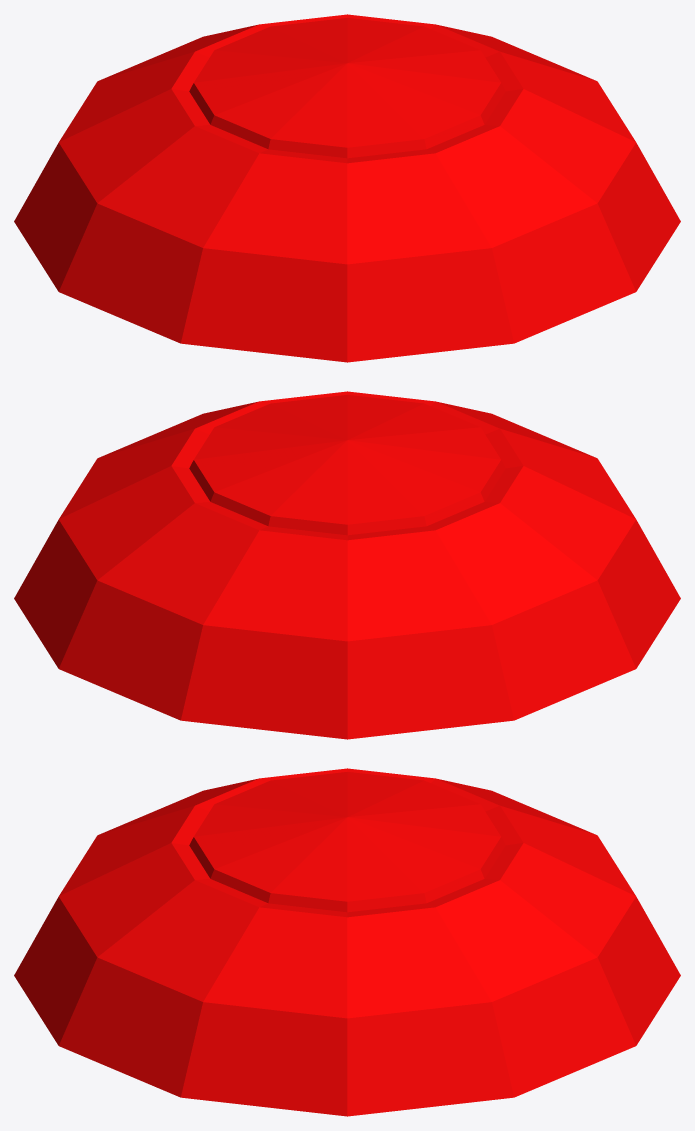
File: Holo_Boussole.fbx
The picture shows the model from 3 angles, top to bottom: view 1: azimuth 30°, elevation 25°; view 2: azimuth 150°, elevation 25°; view 3: azimuth 270°, elevation 25°; orthographic projection.
Parts seen in each view (by area): view 1: Sphere003; view 2: Sphere003; view 3: Sphere003.
Boxes of the visible parts, x1,y1,x2,y2 form: Sphere003: (14, 14, 680, 362); Sphere003: (14, 391, 680, 739); Sphere003: (14, 768, 680, 1116).
Size of the model in its own units: 1241 by 1241 by 325.
